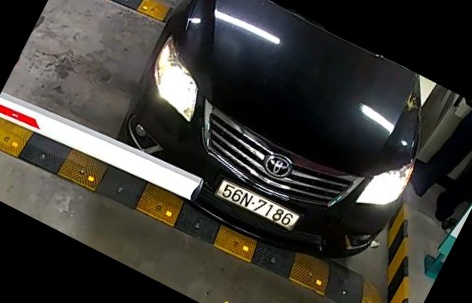plate: (213, 181, 320, 237)
